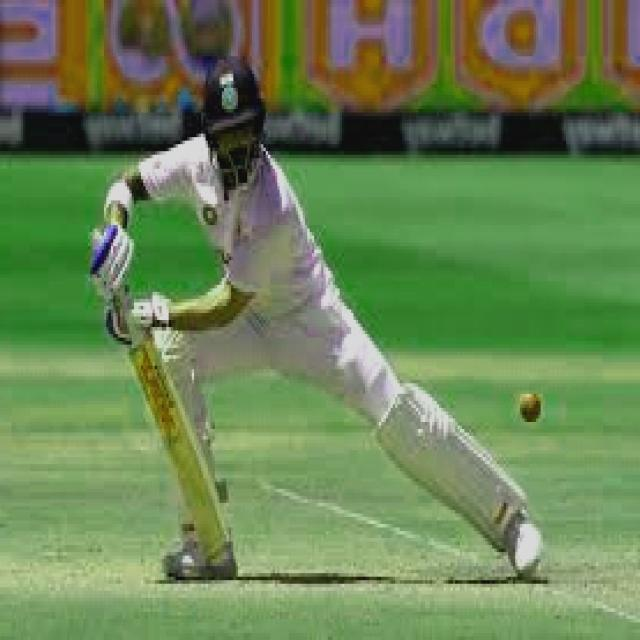toe: (188, 494, 236, 562)
